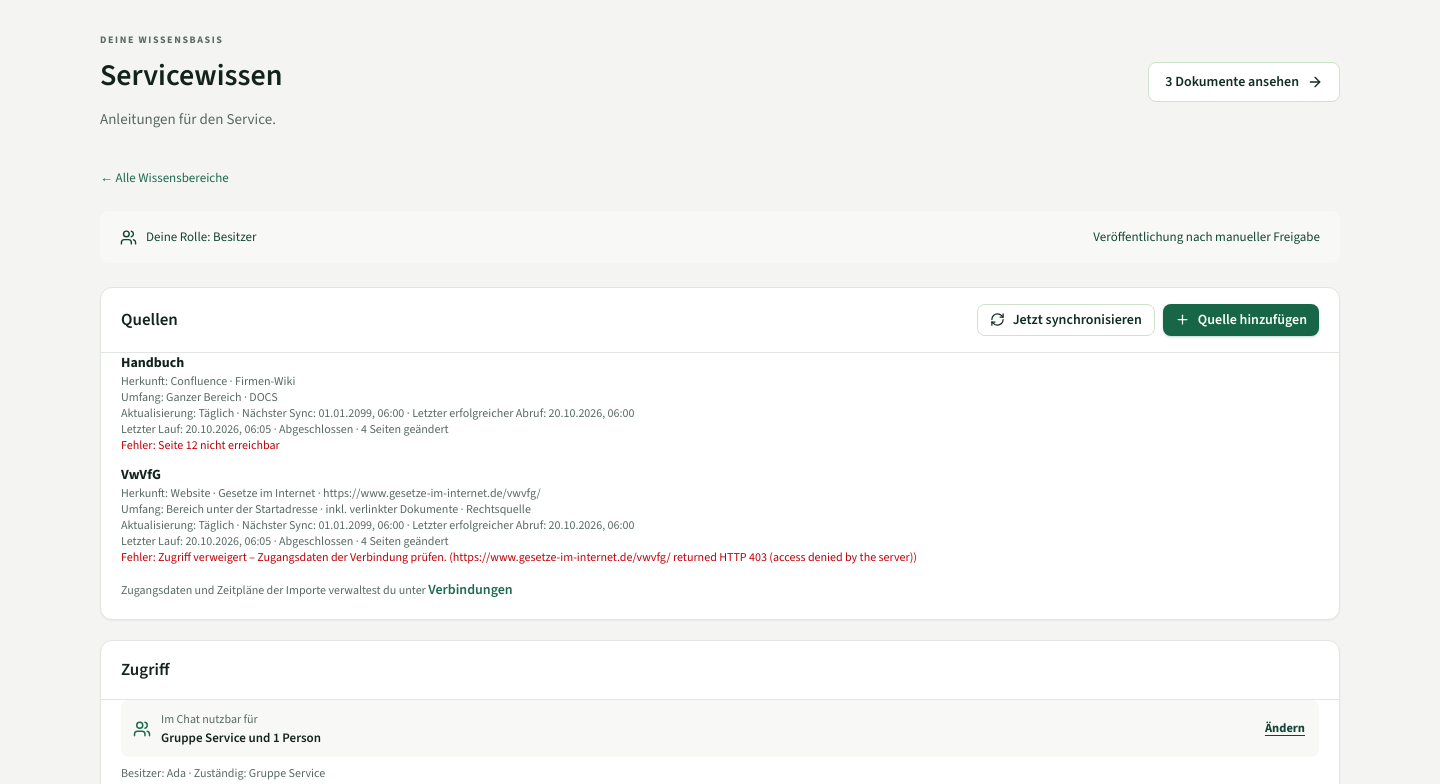
Test: lists the space's Confluence imports with schedule, last run and error, and syncs only its own
Check: the list named "Zugeordnete Quellen" shows "Handbuch", box [121,353,184,372]
Check: the list named "Zugeordnete Quellen" shows "Herkunft: Confluence · Firmen-Wiki", box [121,353,917,565]
Click the button "Jetzt synchronisieren" at x=1066, y=320, box [977,304,1155,336]
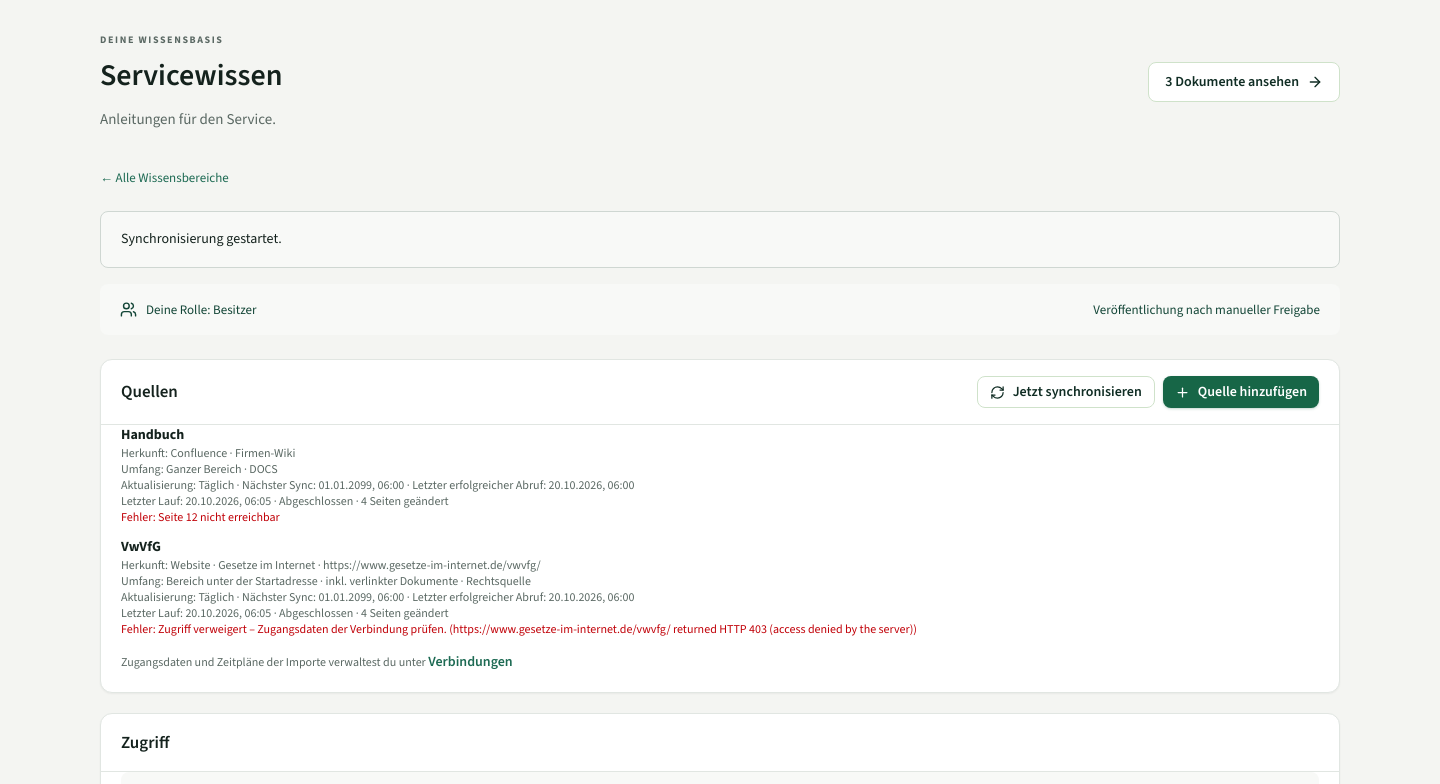
Check: the text "Synchronisierung gestartet." is shown, box [121,228,282,251]
